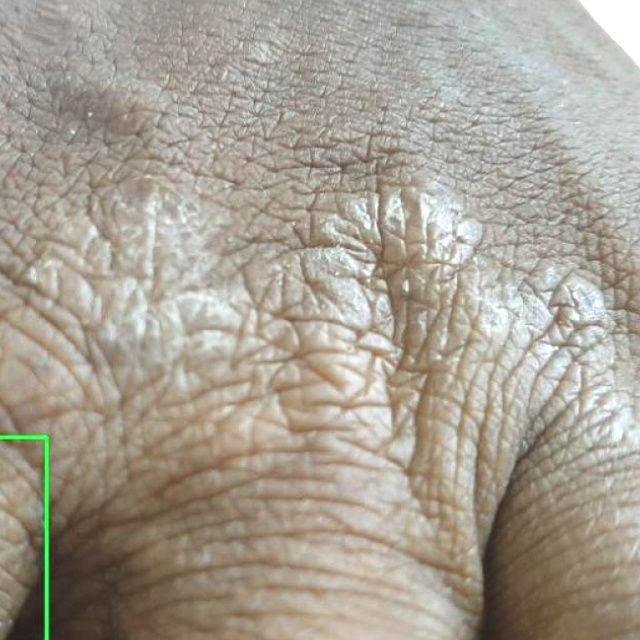Contact Dermatitis: (0, 437, 46, 639)
